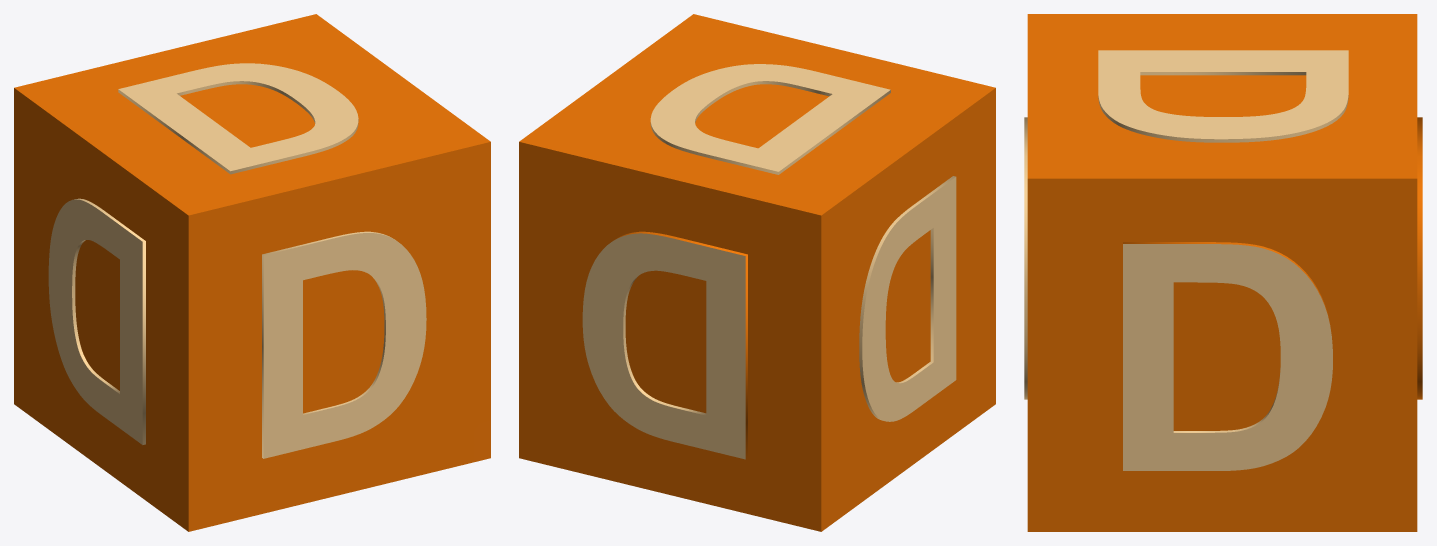
File: 8-dharfi.fbx
3 renders of one model, left to right at view 1: azimuth 30°, elevation 25°; view 2: azimuth 150°, elevation 25°; view 3: azimuth 270°, elevation 25°, orthographic. The views are drawn at different scales.
Parts seen in each view (by area): view 1: Cube.043; view 2: Cube.043; view 3: Cube.043.
Part boxes in pixels (x1,y1,x2,y2): Cube.043: [14, 14, 490, 531]; Cube.043: [519, 14, 995, 531]; Cube.043: [1024, 14, 1422, 531].
Size of the model in its own units: 8.44 by 8.44 by 8.44.
